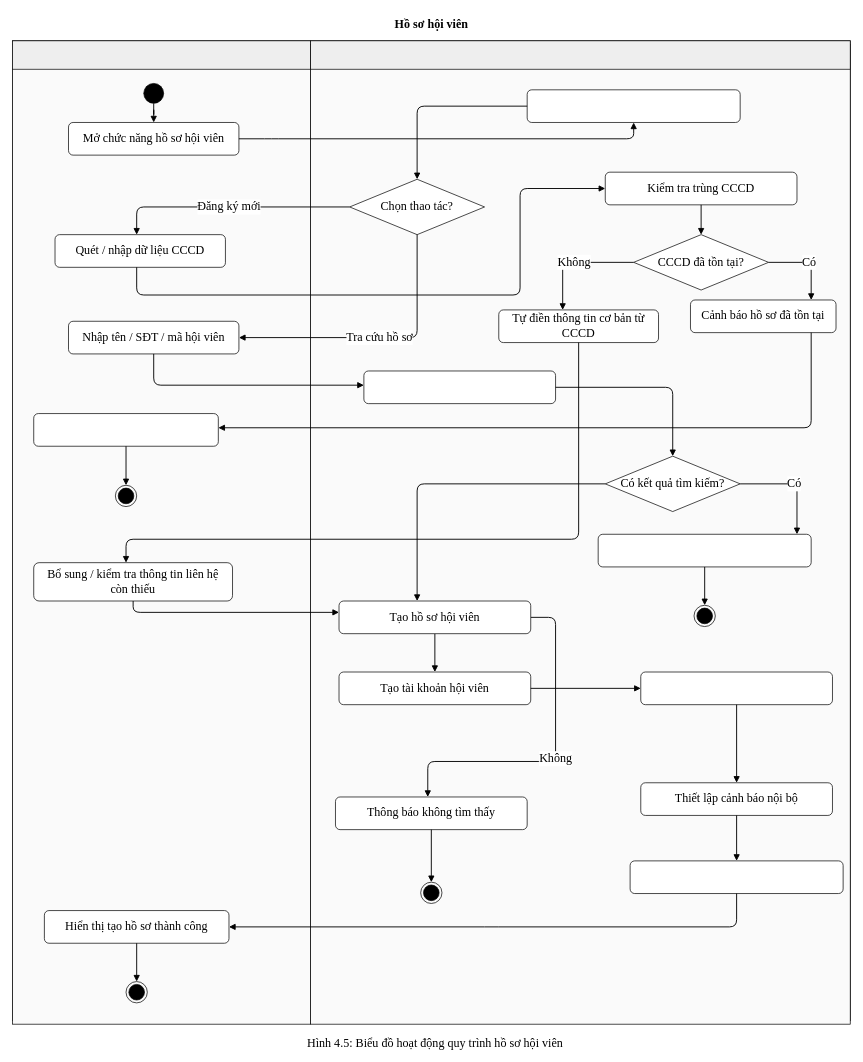
Some shapes in this 863 by 1062 pixel diagram are drawn without their labels. Each missing label, with the centre of its shape:
Hiển thị hồ sơ và trạng thái gói tập: (x=704, y=550)
Hiển thị thông báo trùng dữ liệu: (x=125, y=429)
Hệ thống: (x=580, y=54)
Khởi tạo chức năng hồ sơ: (x=633, y=105)
Lễ tân: (x=161, y=54)
Sinh mã QR: (x=736, y=688)
Trả mã QR và thông báo thành công: (x=736, y=877)
Tìm kiếm hội viên: (x=459, y=387)
